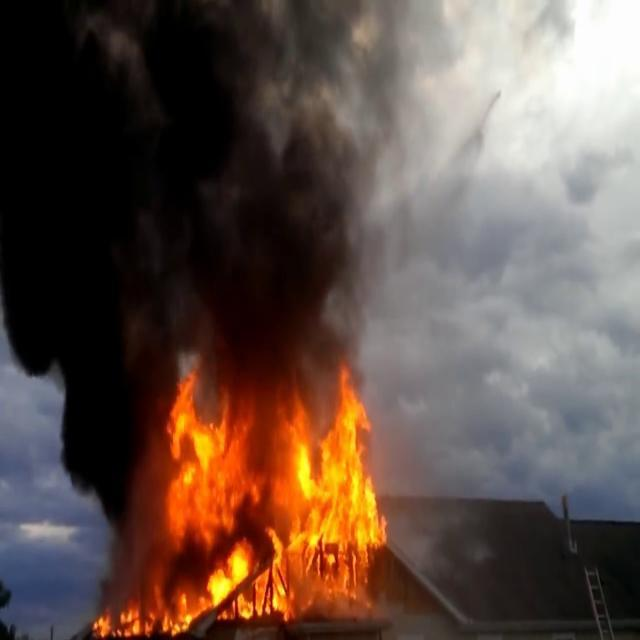Fire: (92, 358, 388, 640)
Smoke: (0, 0, 363, 525)
